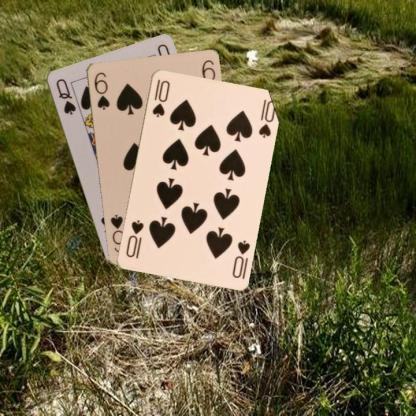10s: (149, 76, 171, 118), (230, 237, 252, 279)
6s: (91, 69, 111, 111)
Qs: (52, 76, 77, 116)
